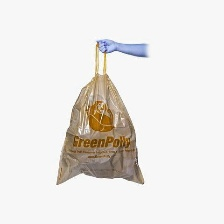plastic_bag: (48, 37, 154, 193)
